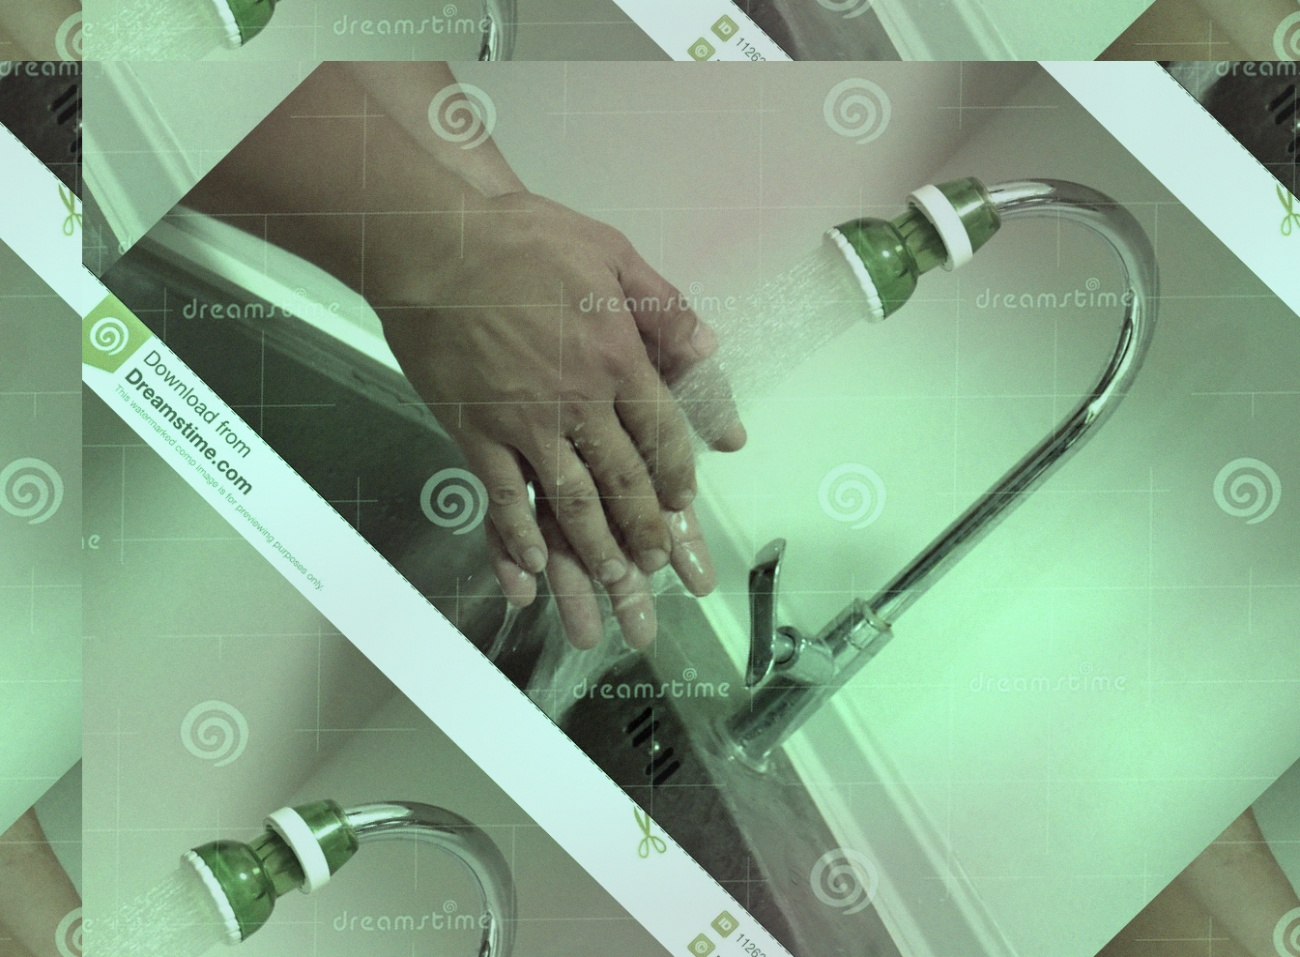washing hand: (315, 0, 1245, 836)
